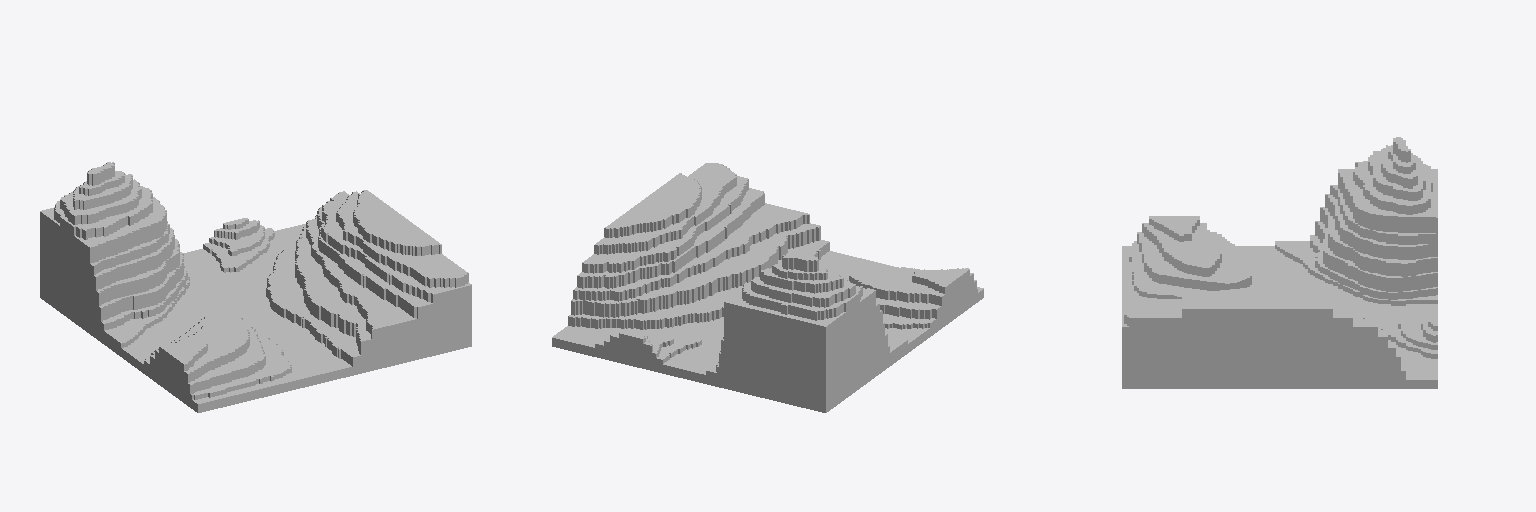
The model's file is Main Island-25.obj.
The picture shows the model from 3 angles: view 1: azimuth 30°, elevation 25°; view 2: azimuth 150°, elevation 25°; view 3: azimuth 270°, elevation 25°; orthographic projection.
Parts seen in each view (by area): view 1: Main Island-7; view 2: Main Island-7; view 3: Main Island-7.
Part boxes in pixels (x1,y1,x2,y2): Main Island-7: (40,162,471,412); Main Island-7: (552,163,983,412); Main Island-7: (1122,137,1437,388).
Bounding box in the file's own units: 126 × 58 × 126.